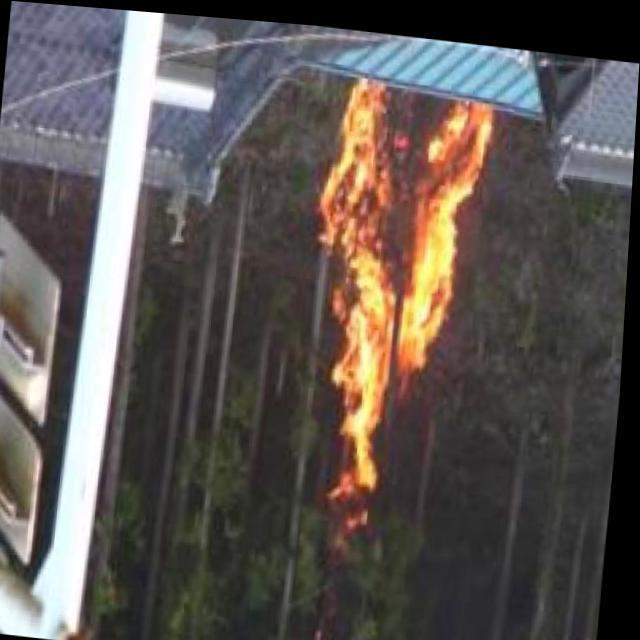fire: (302, 68, 502, 508)
